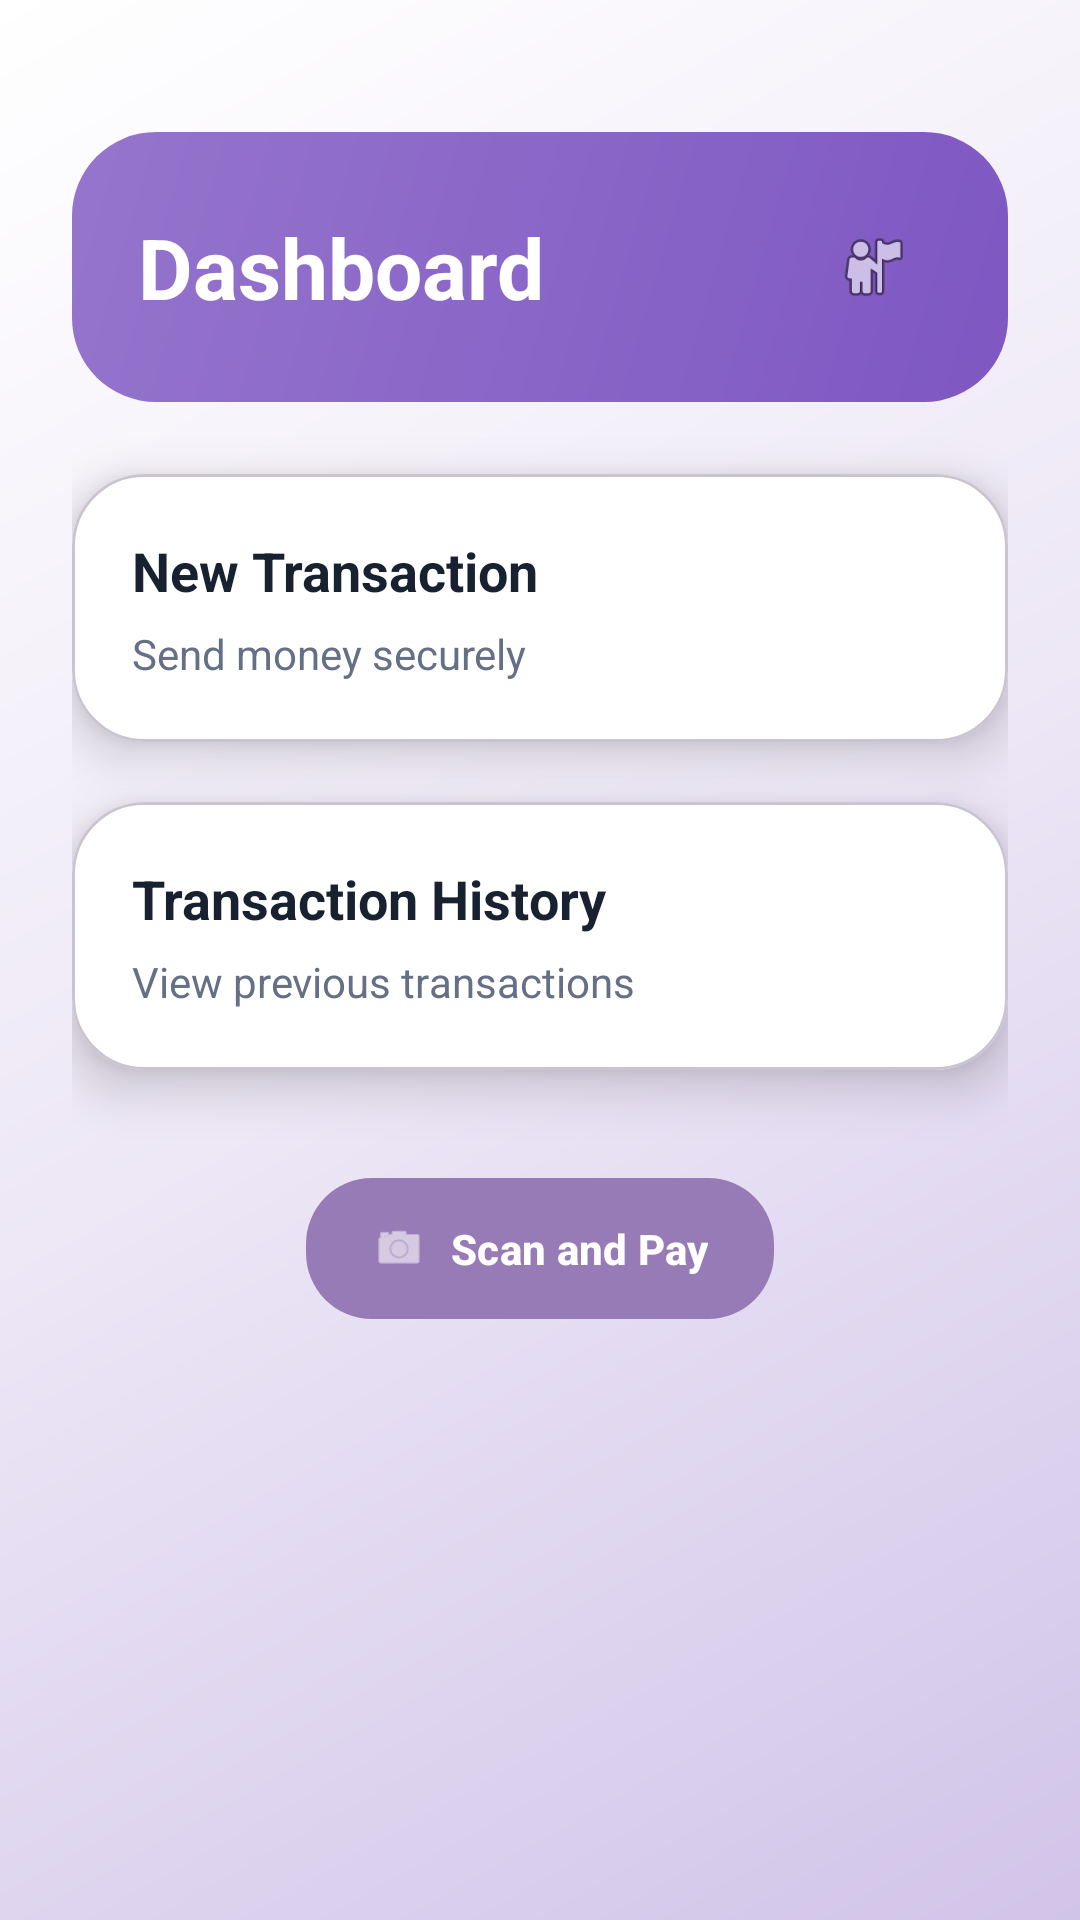

Where to tap for icons on this 1080px x 1920px app screen, as [x,y]:
myplaces: [874,267]
